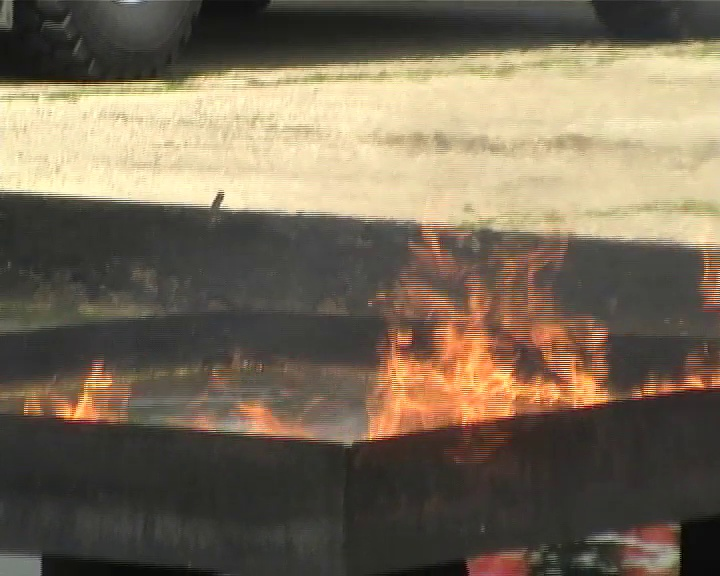fire: (363, 223, 609, 439), (22, 373, 133, 420), (242, 407, 305, 436)
